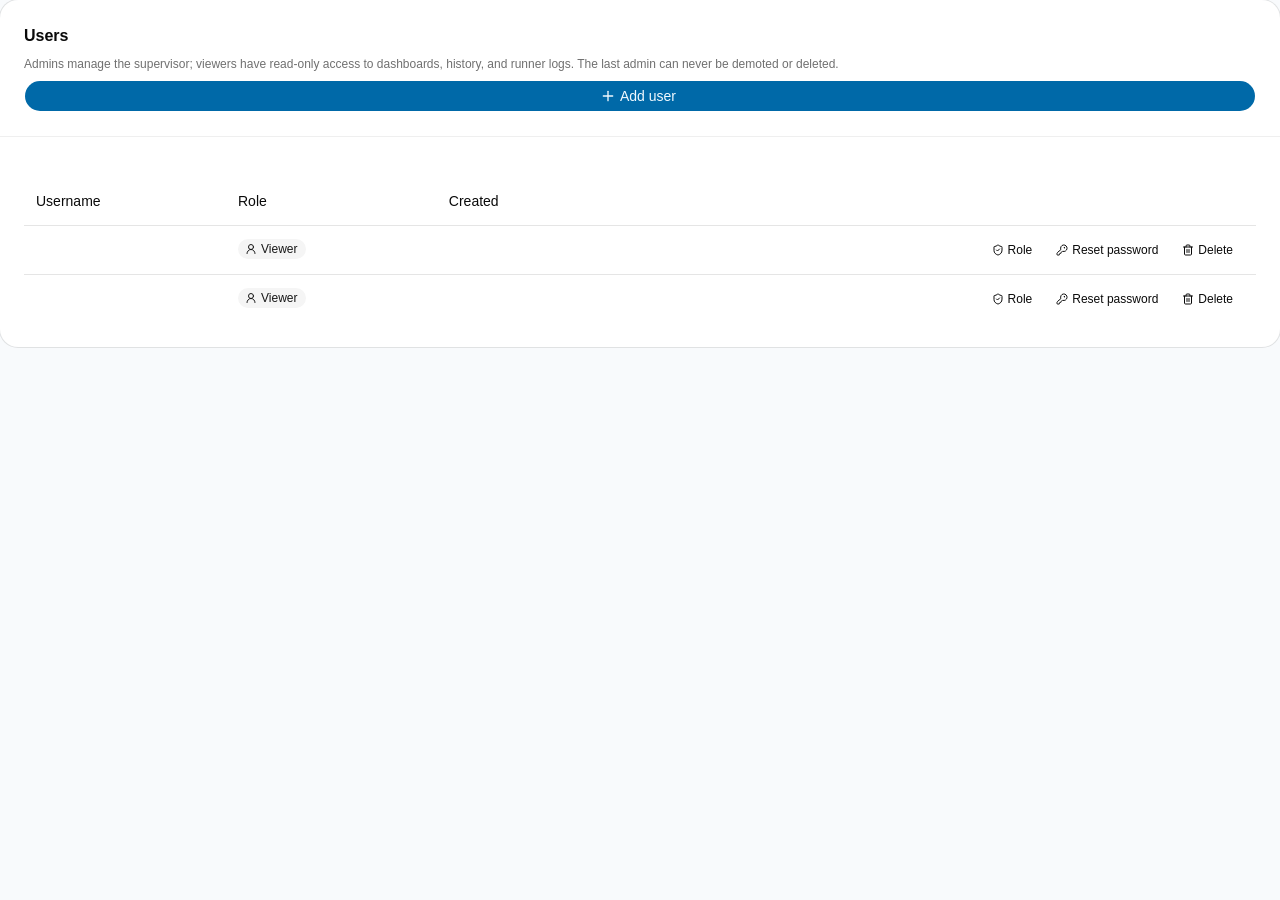
Scenario: UsersCard › rejects mismatched dialog passwords client-side
The width and height of the screenshot is (1280, 900).
Click the button with test id "add-user-button": [640, 96] box [24,80,1256,112]
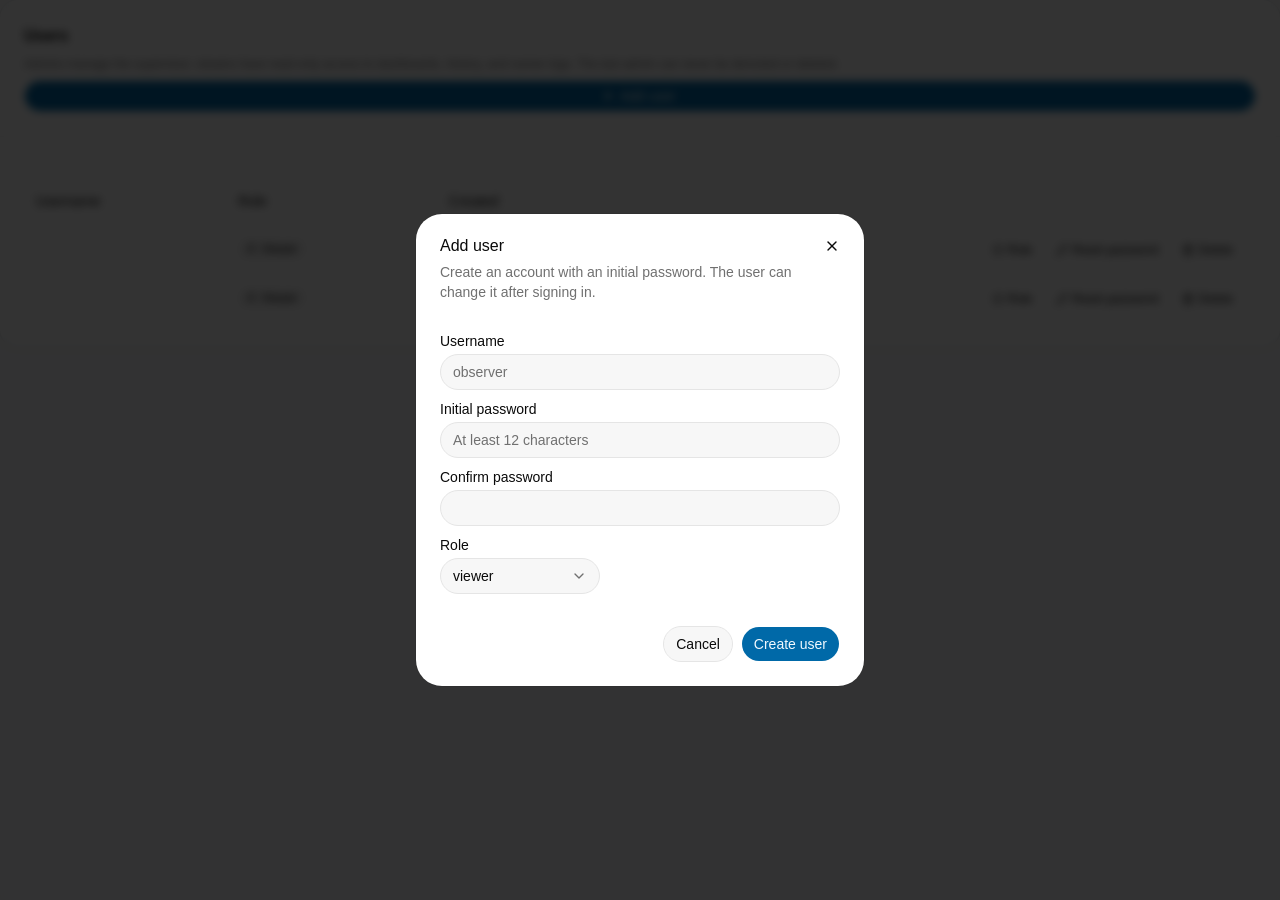
In the field labelled "Username": [640, 372] box [440,354,840,390], type "newbie"
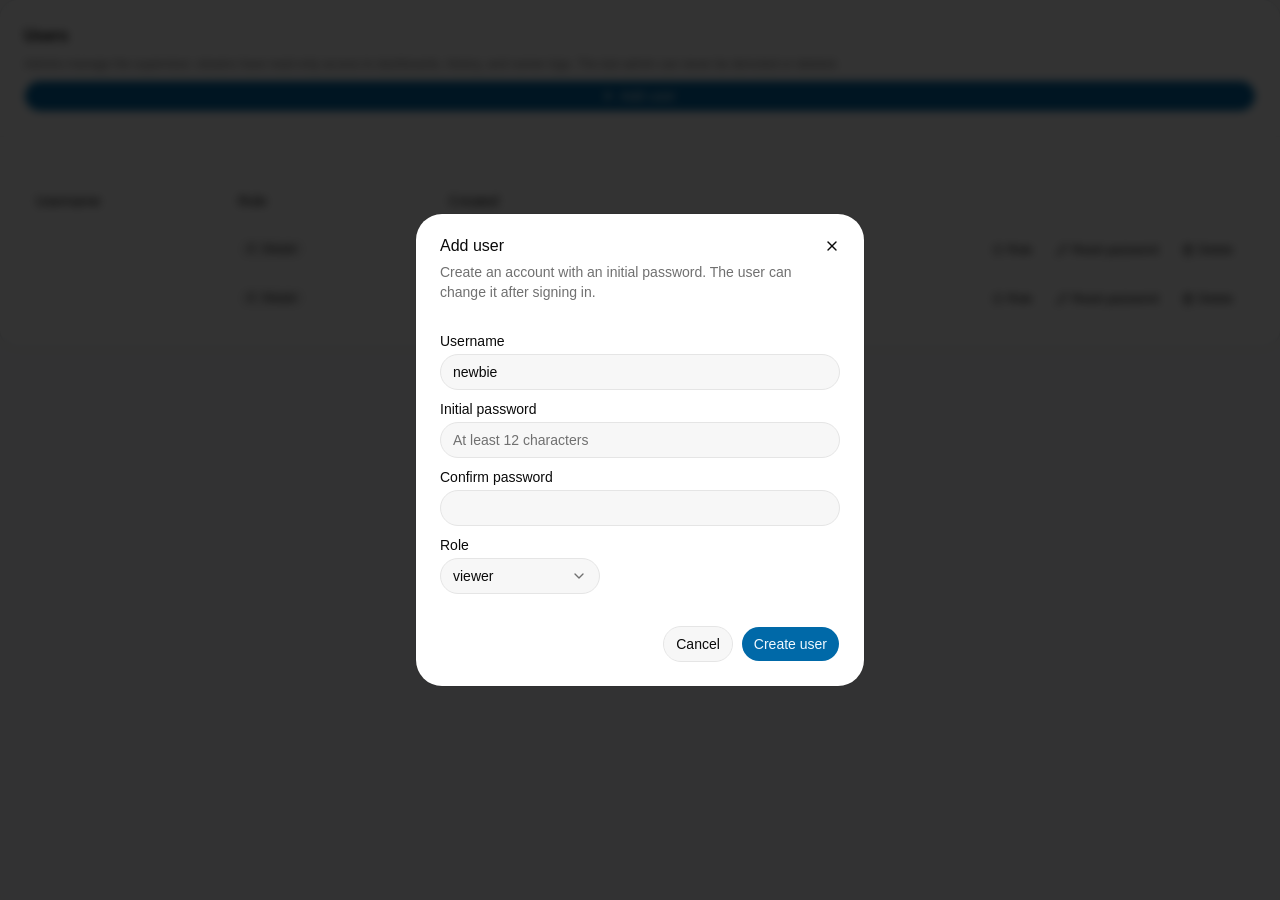
In the password field labelled "Initial password": [640, 440] box [440,422,840,458], type "long-enough-password"
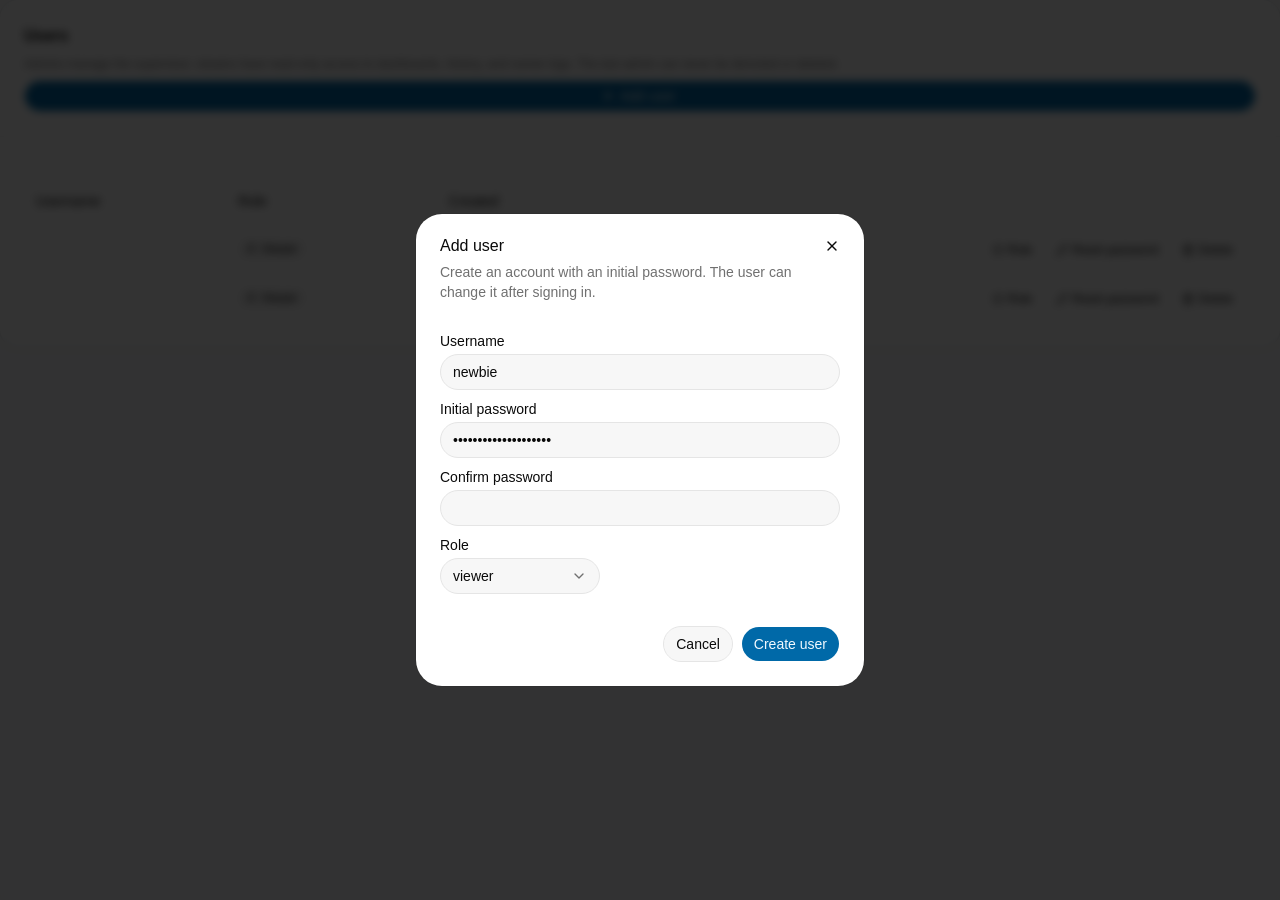
In the password field labelled "Confirm password": [640, 508] box [440,490,840,526], type "different-password"
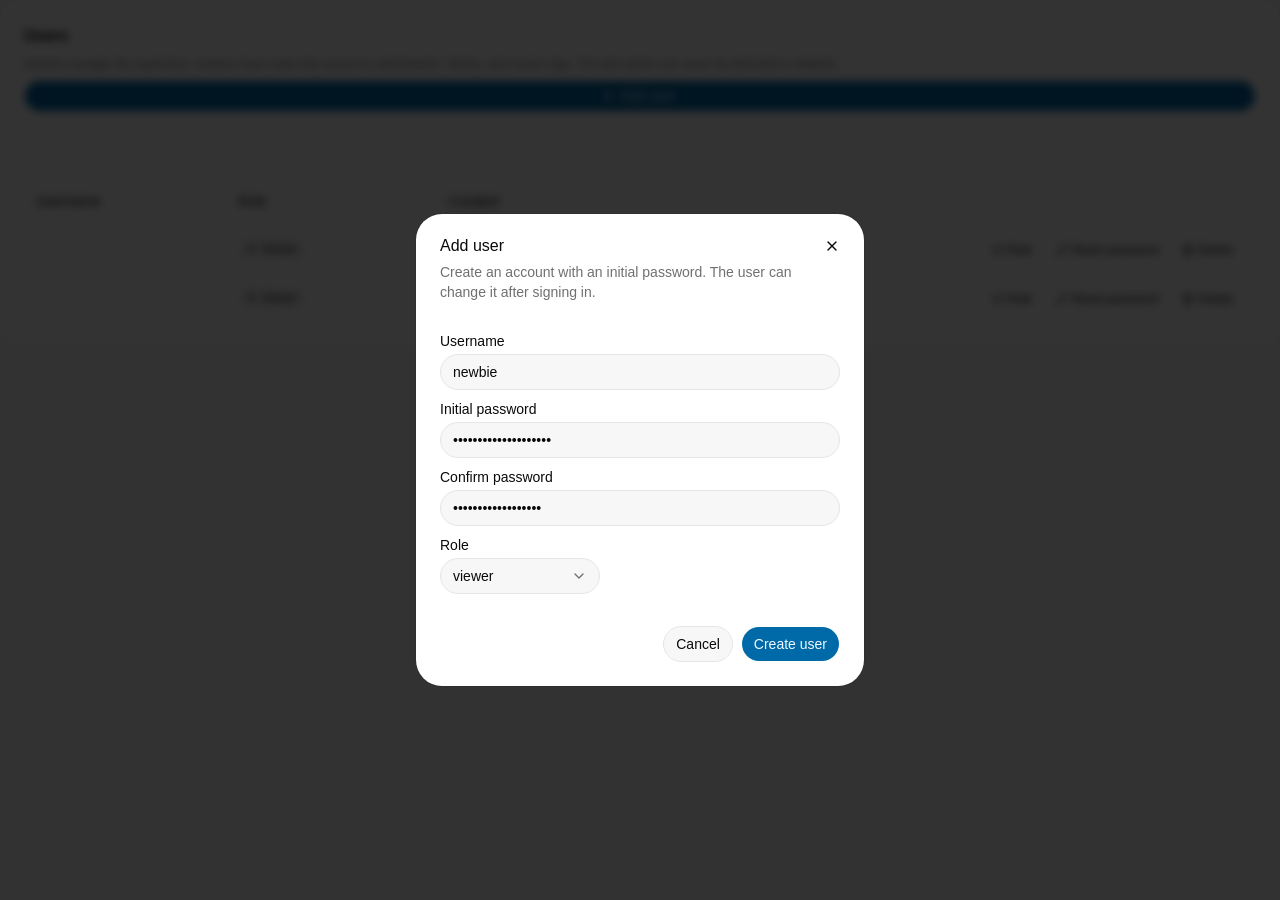
Click the button with test id "add-user-submit": [790, 644] box [741,626,840,662]
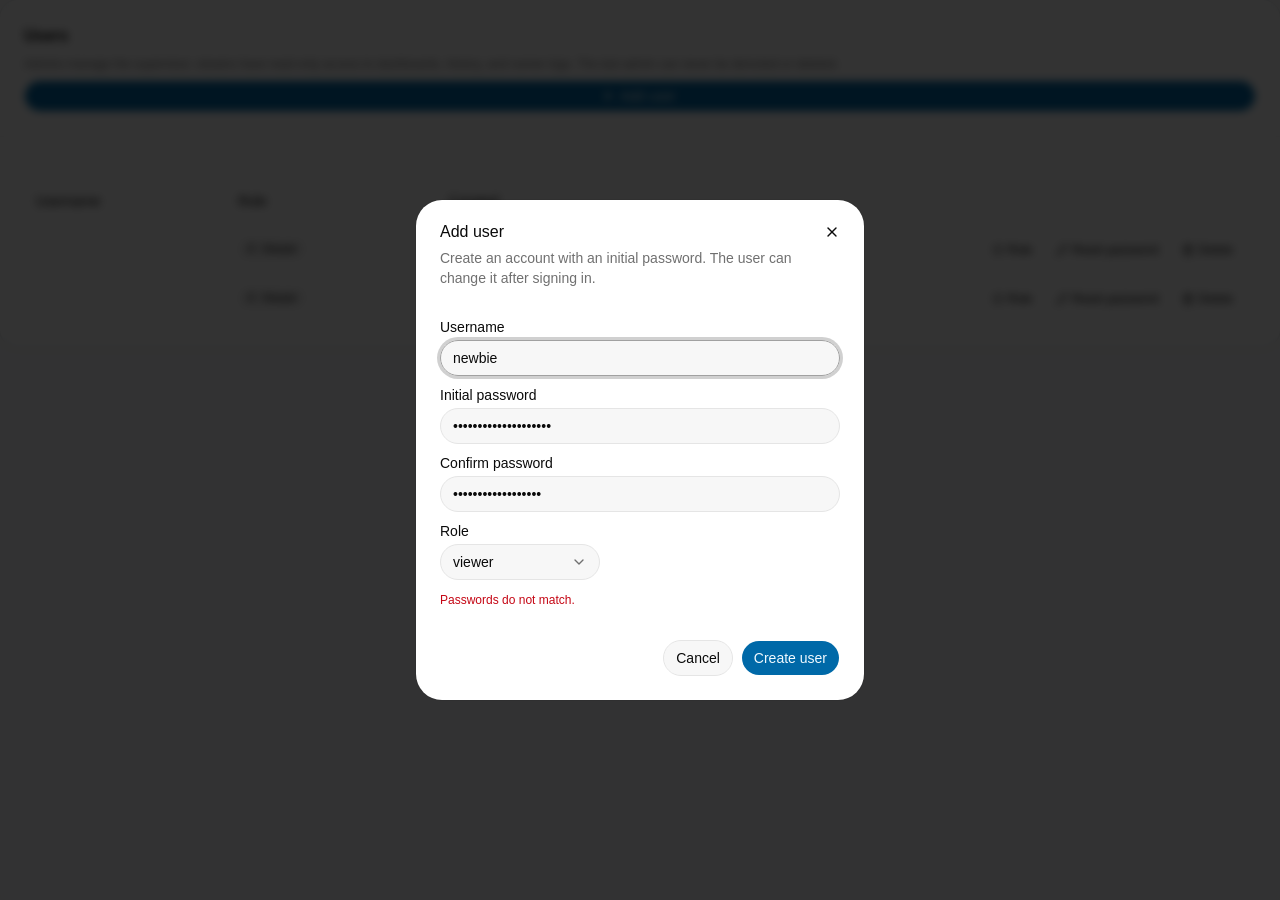
Check: the text with test id "add-user-error" shows "do not match", box [440,593,575,607]
